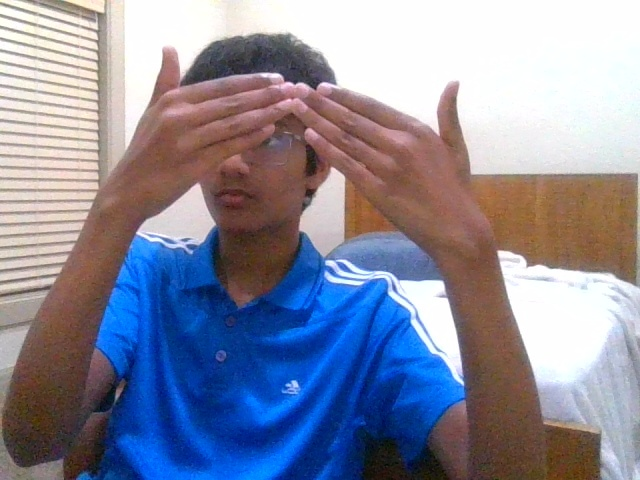thanks: (132, 47, 483, 227)
